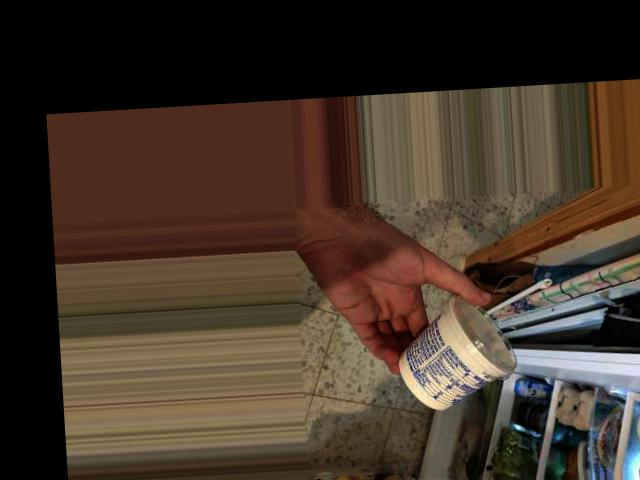cotage: (390, 284, 511, 401)
